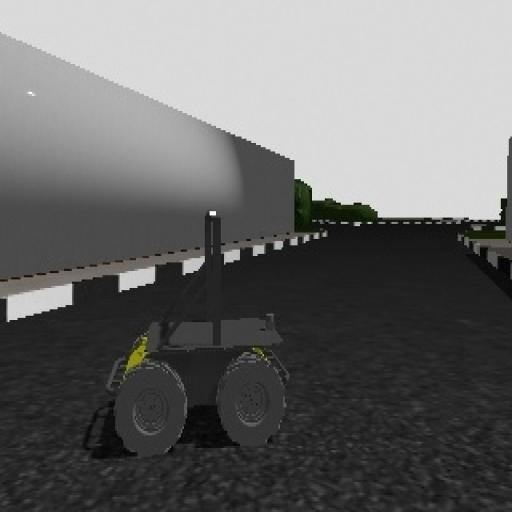huskya200: (95, 202, 301, 460)
